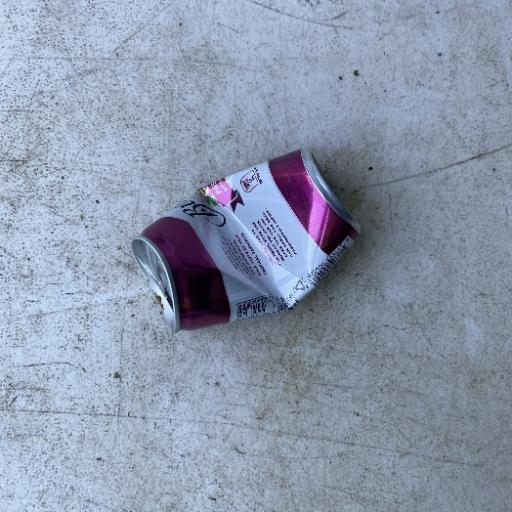Metal: (129, 146, 362, 335)
